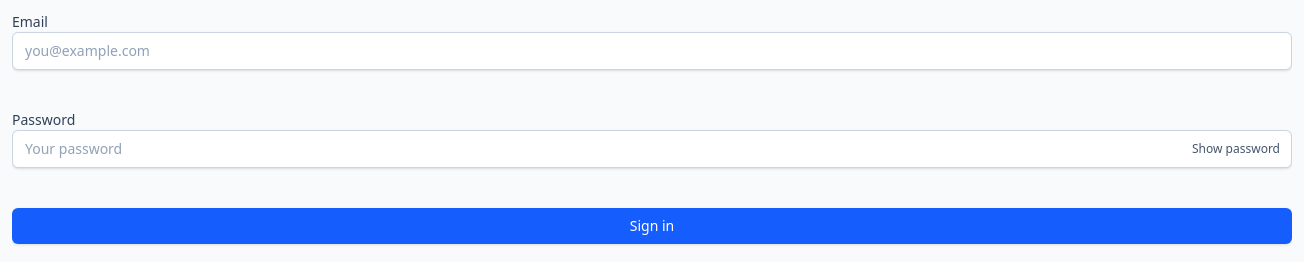
Test: LoginForm › validation › shows password_required error when password is empty
Click the password field labelled "Password" at (652, 149), box [12,130,1292,168]
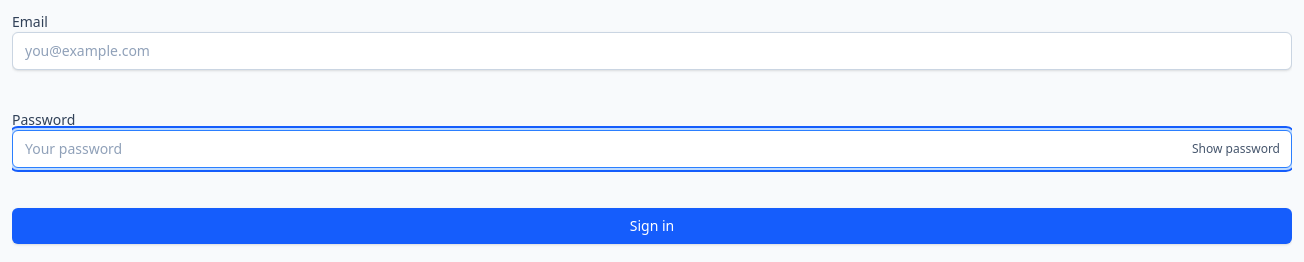
Click the field labelled "Email" at (652, 51), box [12,32,1292,70]
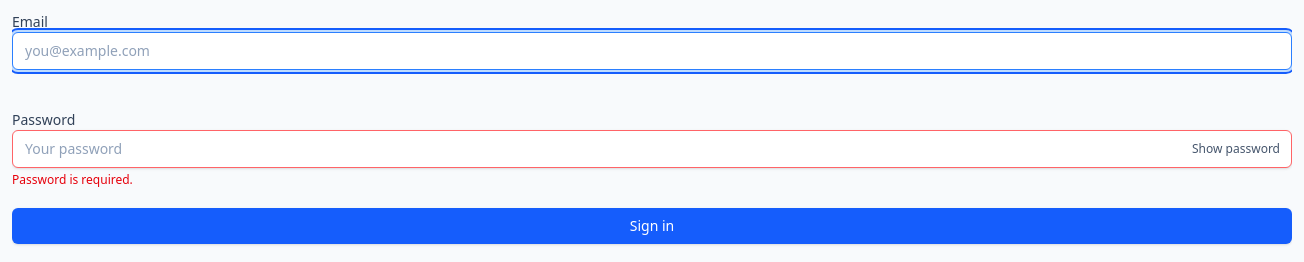
Expected: the text "Password is required." is shown, [12,171,133,188]
